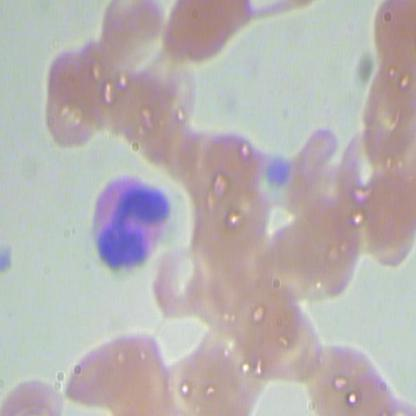Platelets: (261, 155, 293, 186), (1, 244, 20, 278)
RBC: (62, 327, 169, 413), (287, 192, 359, 303), (354, 162, 415, 271), (354, 70, 415, 179), (161, 1, 257, 67), (42, 36, 98, 149), (301, 333, 366, 415), (197, 129, 268, 202), (153, 244, 215, 327), (98, 1, 169, 73), (231, 274, 292, 357), (267, 300, 328, 383), (365, 1, 415, 88)
WBC: (75, 166, 181, 276)
